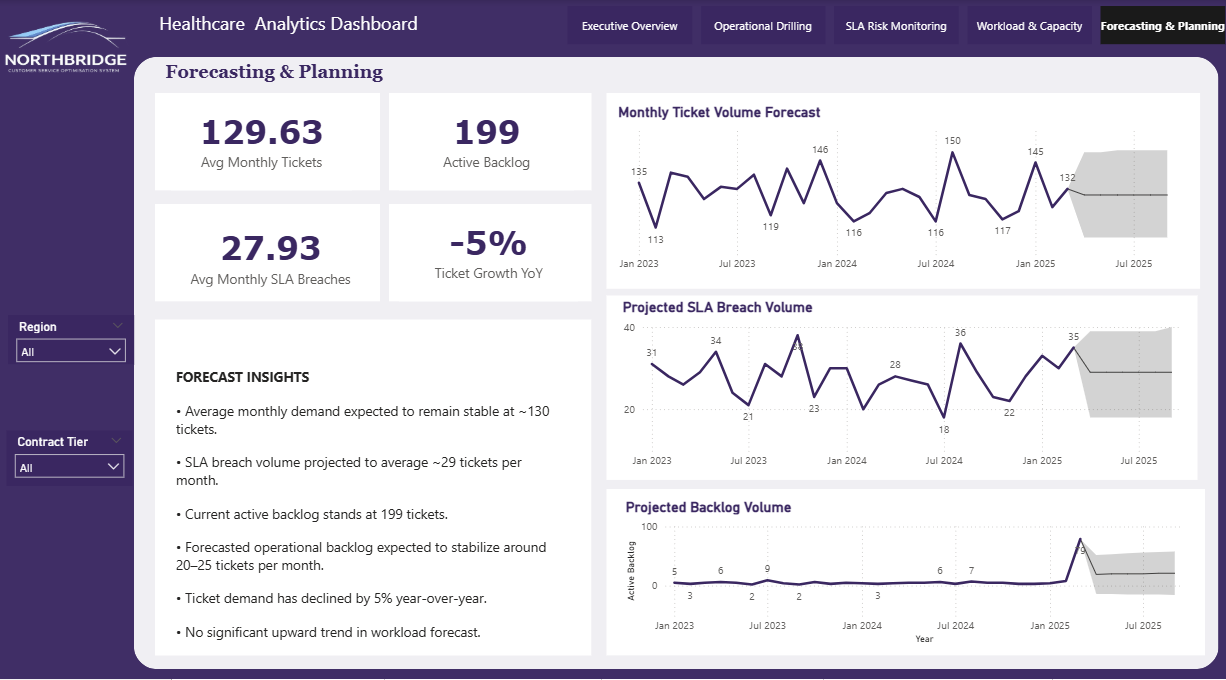

What the dashboard file says about the page in this screenshot:
{"tool":"powerbi","page":{"name":"Forecasting & Planning","canvas":[1450,800],"ordinal":4},"visuals":[{"type":"shape","box":[159.1,67.2,1277.8,721.1],"z":500},{"type":"textbox","box":[190.9,67.2,298.7,46],"z":1000},{"type":"shape","box":[183.8,109.6,265.1,114.9],"z":2000},{"type":"shape","box":[183.8,376.4,514.3,395.9],"z":3000},{"type":"cardVisual","fields":{"Data":["Calculations.Avg Monthly Tickets"]},"box":[203.2,109.6,212.1,114.9],"z":4000},{"type":"shape","box":[715.8,348.2,696.3,217.4],"z":5000},{"type":"shape","box":[715.8,576.2,705.2,196.2],"z":6000},{"type":"shape","box":[715.5,109.1,699.4,230.7],"z":7000},{"type":"lineChart","title":"Monthly Ticket Volume Forecast","fields":{"Y":["Calculations.Total Tickets"],"Category":["Date.Date.Variation.Date Hierarchy.Year","Date.Date.Variation.Date Hierarchy.Month"]},"box":[724.6,121.9,678.7,206.8],"z":8000},{"type":"lineChart","title":"Projected SLA Breach Volume","fields":{"Y":["Calculations.SLA Breaches"],"Category":["Date.Date.Variation.Date Hierarchy.Year","Date.Date.Variation.Date Hierarchy.Month"]},"box":[729.9,351.7,678.7,208.5],"z":9000},{"type":"lineChart","title":"Projected Backlog Volume","fields":{"Y":["Calculations.Active Backlog"],"Category":["Date.Date.Variation.Date Hierarchy.Year","Date.Date.Variation.Date Hierarchy.Month"]},"box":[733.4,586.8,678.7,176.7],"z":10000},{"type":"shape","box":[459.5,109.6,238.6,114.9],"z":11000},{"type":"cardVisual","fields":{"Data":["Calculations.Active Backlog"]},"box":[471.9,109.6,205,114.9],"z":12000},{"type":"shape","box":[183.8,240.4,265.1,114.9],"z":13000},{"type":"cardVisual","fields":{"Data":["Calculations.Avg Monthly SLA Breaches"]},"box":[190.9,252.7,258,102.5],"z":14000},{"type":"shape","box":[459.5,240.4,238.6,114.9],"z":15000},{"type":"cardVisual","fields":{"Data":["Calculations.Ticket Growth YoY"]},"box":[471.9,240.4,210.3,114.9],"z":16000},{"type":"textbox","box":[203.2,427.7,466.6,335.8],"z":17000},{"type":"slicer","fields":{"Values":["CLIENTS.REGION"]},"box":[10.6,371.1,148.5,58.3],"z":18000},{"type":"slicer","fields":{"Values":["CLIENTS.CONTRACT_TIER"]},"box":[8.8,507.2,148.5,65.4],"z":19000},{"type":"image","box":[0,0,157.3,109.6],"z":20000},{"type":"textbox","box":[183.8,7.1,339.3,46],"z":21000},{"type":"pageNavigator","box":[670.6,7.1,779.4,46],"z":22000}]}

Visuals, with their boxes in screenshot pixels (x1, y1, x2, y2), scaled from the page's 1450x800 canvas onto the 1226x680 screenshot:
shape: box=[135, 57, 1215, 670]
textbox: box=[161, 57, 414, 96]
shape: box=[155, 93, 380, 191]
shape: box=[155, 320, 590, 656]
cardVisual - Calculations.Avg Monthly Tickets: box=[172, 93, 351, 191]
shape: box=[605, 296, 1194, 481]
shape: box=[605, 490, 1201, 657]
shape: box=[605, 93, 1196, 289]
"Monthly Ticket Volume Forecast" lineChart: box=[613, 104, 1187, 279]
"Projected SLA Breach Volume" lineChart: box=[617, 299, 1191, 476]
"Projected Backlog Volume" lineChart: box=[620, 499, 1194, 649]
shape: box=[389, 93, 590, 191]
cardVisual - Calculations.Active Backlog: box=[399, 93, 572, 191]
shape: box=[155, 204, 380, 302]
cardVisual - Calculations.Avg Monthly SLA Breaches: box=[161, 215, 380, 302]
shape: box=[389, 204, 590, 302]
cardVisual - Calculations.Ticket Growth YoY: box=[399, 204, 577, 302]
textbox: box=[172, 364, 566, 649]
slicer - CLIENTS.REGION: box=[9, 315, 135, 365]
slicer - CLIENTS.CONTRACT_TIER: box=[7, 431, 133, 487]
image: box=[0, 0, 133, 93]
textbox: box=[155, 6, 442, 45]
pageNavigator: box=[567, 6, 1225, 45]
